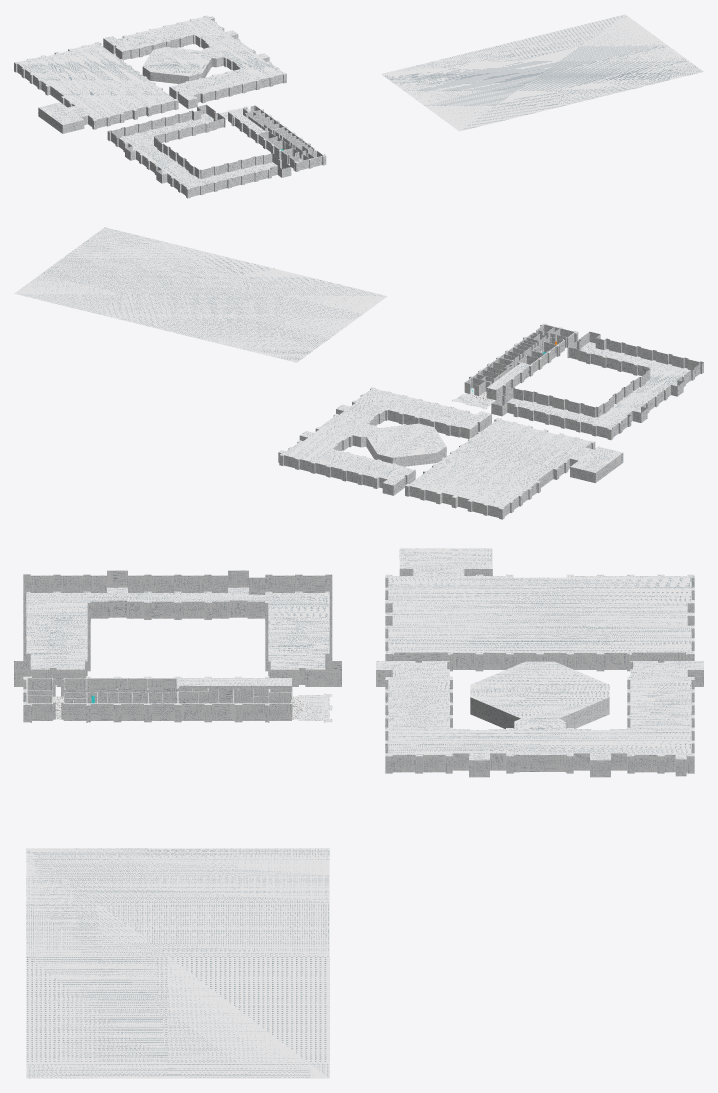
Rendered from CNR_master.dae.
3 renders of one model, top to bottom at view 1: azimuth 30°, elevation 25°; view 2: azimuth 150°, elevation 25°; view 3: azimuth 270°, elevation 25°, orthographic. The views are drawn at different scales.
Parts seen in each view (by area): view 1: SketchUp (×3), _B0, _B0_wall (×3), group_1; view 2: SketchUp (×3), _B0, _B0_wall (×3), group_1; view 3: SketchUp (×3), _B0 (×2), _B0_wall (×3), group_1.
Boxes of the visible parts, x1,y1,x2,y2 form: SketchUp (×3): [14, 15, 291, 198]; _B0: [381, 14, 703, 131]; _B0_wall (×3): [228, 105, 326, 171]; group_1: [122, 114, 265, 189]; SketchUp (×3): [278, 331, 703, 519]; _B0: [14, 227, 387, 362]; _B0_wall (×3): [464, 323, 578, 400]; group_1: [507, 343, 687, 429]; SketchUp (×3): [14, 548, 703, 777]; _B0 (×2): [26, 693, 332, 1078]; _B0_wall (×3): [23, 676, 292, 722]; group_1: [26, 588, 329, 669].
Size of the model in its own units: 11387 by 6470 by 177.
